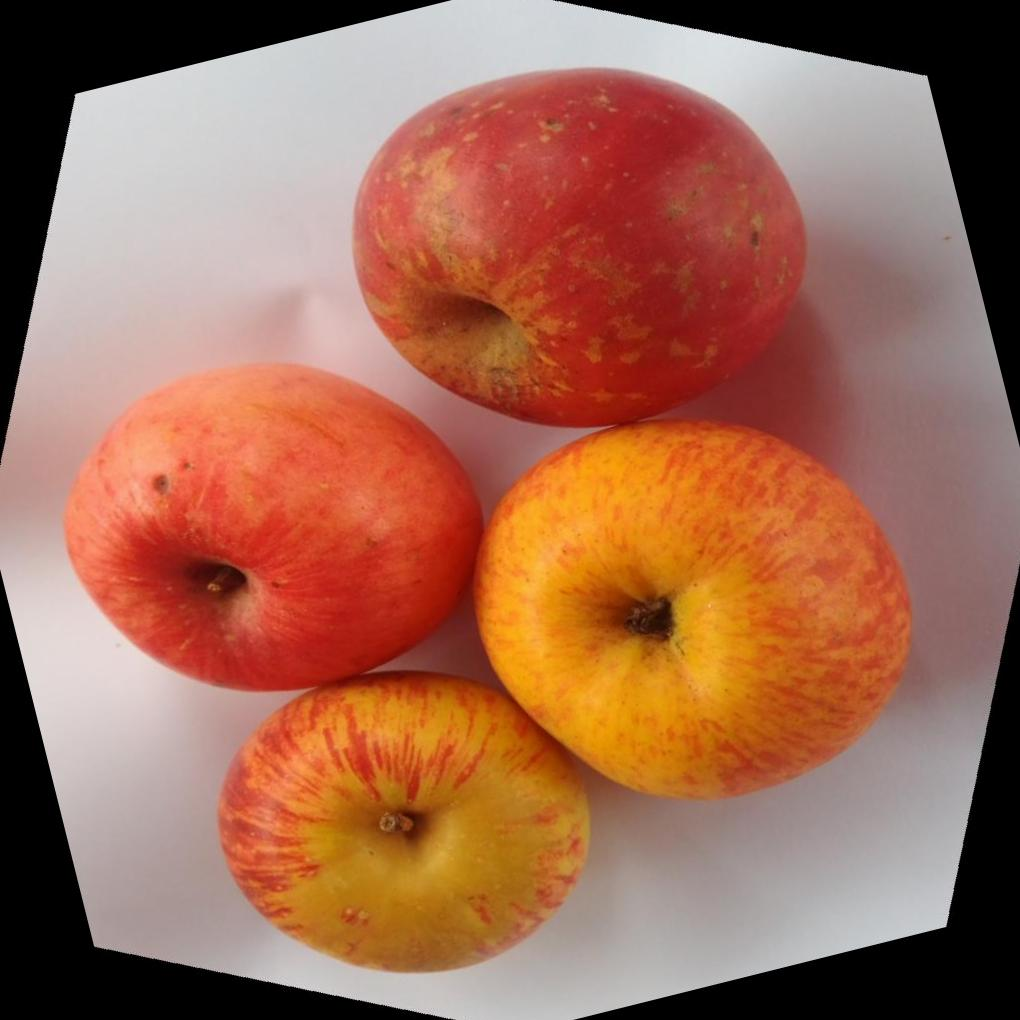FreshGuava: (61, 60, 910, 972)
